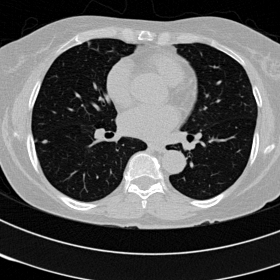nodule: (42, 139, 46, 143)
